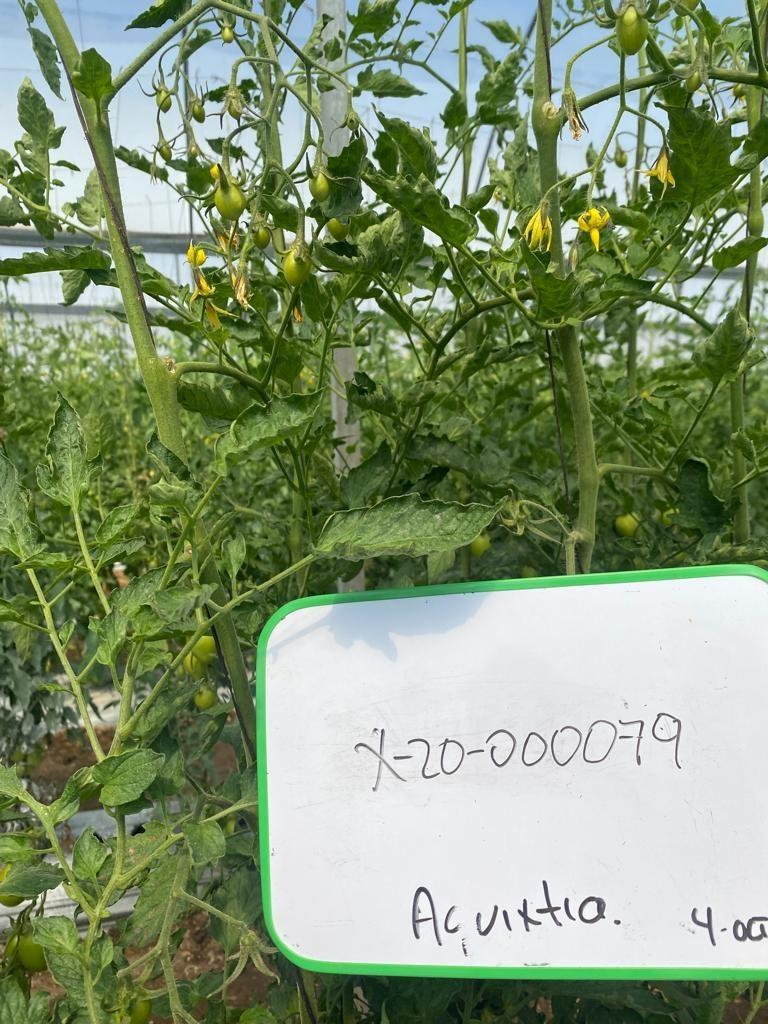Rugose leaf: (311, 500, 500, 561), (214, 391, 322, 476), (36, 394, 102, 510), (90, 568, 164, 667), (0, 452, 46, 561), (92, 748, 164, 806), (150, 586, 212, 623), (96, 502, 142, 548), (72, 826, 108, 880), (184, 820, 226, 865), (32, 916, 80, 955)
Rugose stem: (37, 0, 186, 457), (558, 326, 600, 571)
